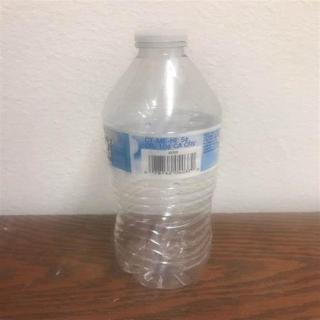Anorganik: (102, 22, 220, 292)
